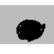correct: (14, 18, 46, 43)
